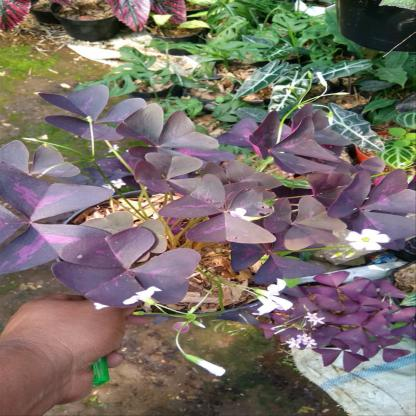Kupu-Kupu: (2, 131, 107, 267), (285, 160, 416, 249), (289, 273, 416, 359), (67, 236, 206, 308), (172, 177, 292, 243), (235, 117, 356, 173), (131, 109, 211, 181), (33, 90, 135, 126)
